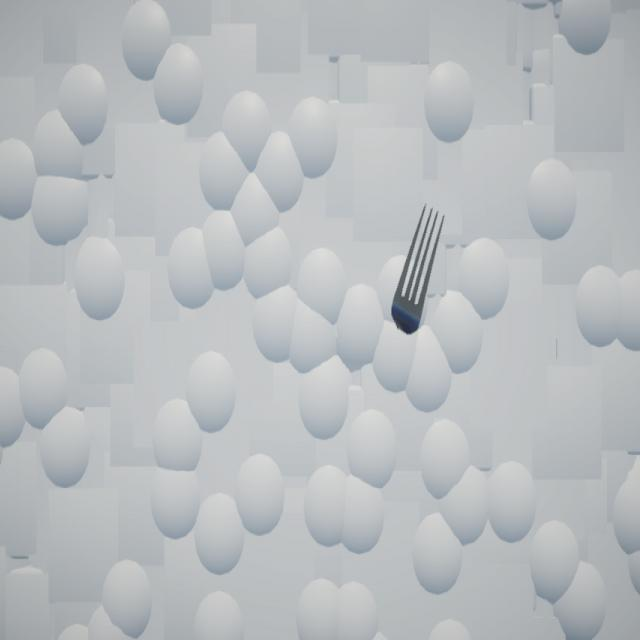top_folk: (392, 204, 446, 337)
